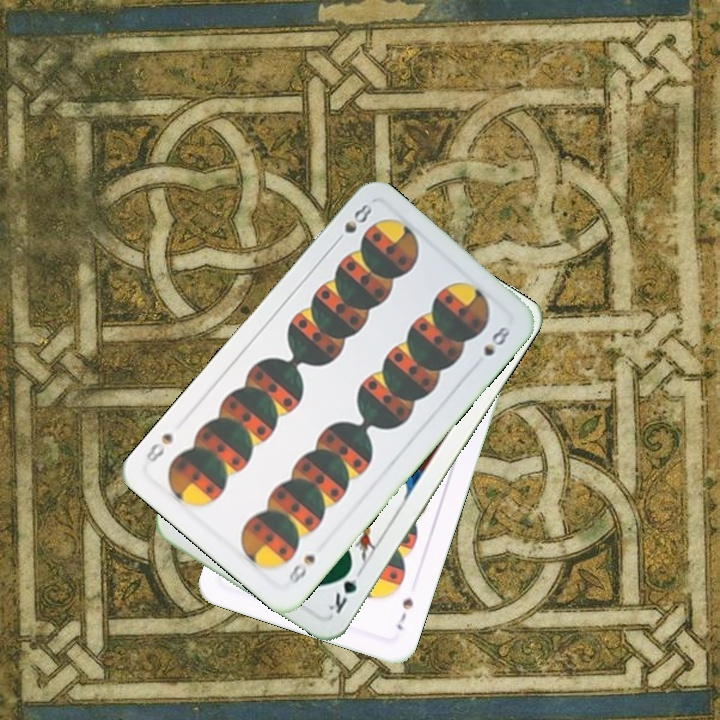GK: (323, 561, 360, 617)
S7: (392, 594, 416, 633)
S8: (329, 198, 375, 248), (284, 550, 318, 587)
